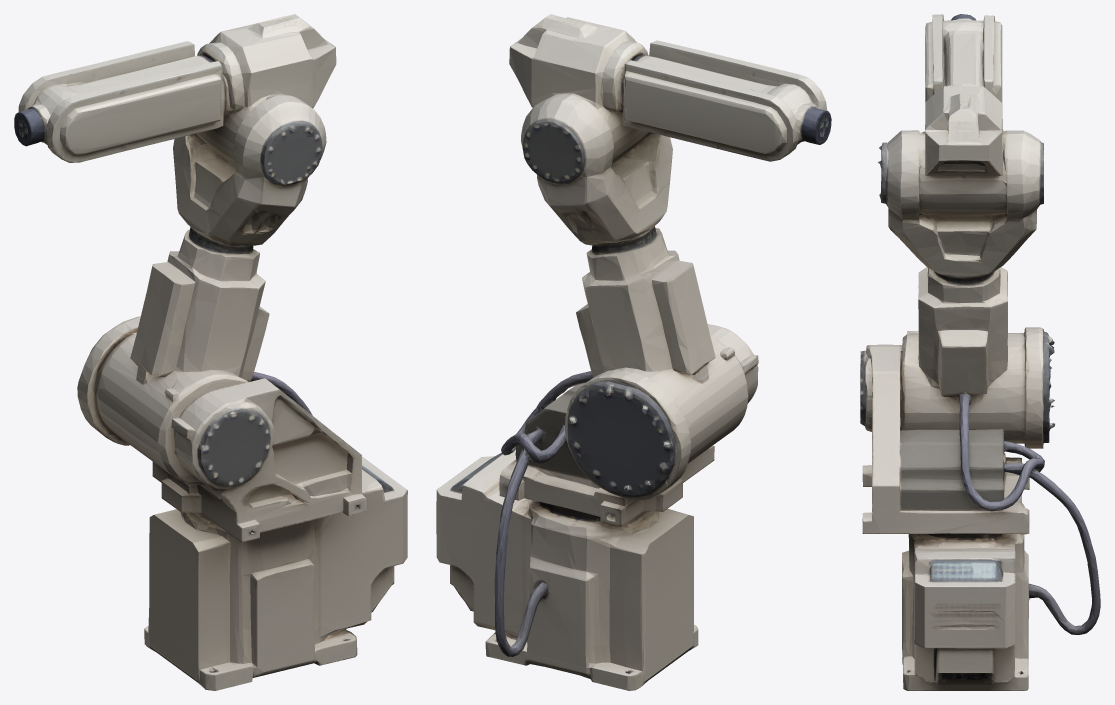
Rendered from PartObjaverseTiny_Eleven.glb.
3 renders of one model, left to right at view 1: azimuth 30°, elevation 25°; view 2: azimuth 150°, elevation 25°; view 3: azimuth 270°, elevation 25°, orthographic. The views are drawn at different scales.
Parts seen in each view (by area): view 1: world; view 2: world; view 3: world.
Boxes of the visible parts, <box> form: world: <box>14,14,407,690</box>; world: <box>436,14,831,690</box>; world: <box>860,14,1100,690</box>.
Bounding box in the file's own units: 0.613 × 1 × 0.3833.
1 material, 1 textured.
